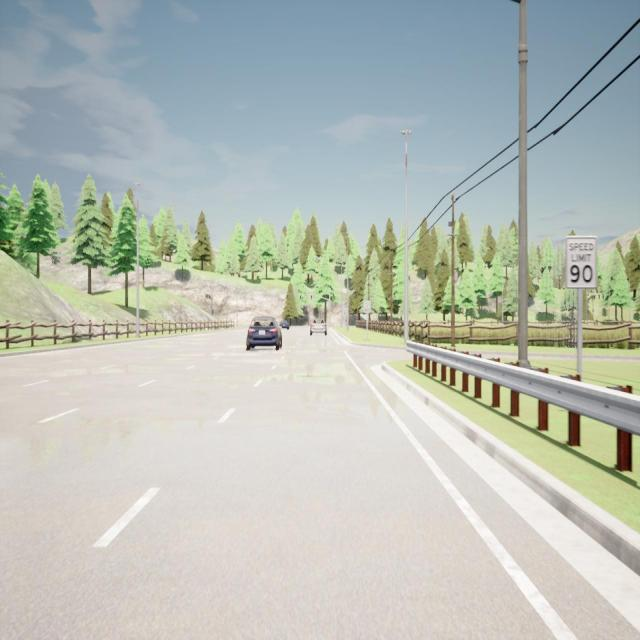Traffic_Signs: (566, 235, 596, 288), (364, 301, 370, 313)
Vehicle: (246, 317, 282, 351), (310, 319, 327, 336), (279, 320, 290, 330)
traffic_light: (286, 294, 288, 300), (300, 295, 301, 299), (311, 295, 312, 299)
